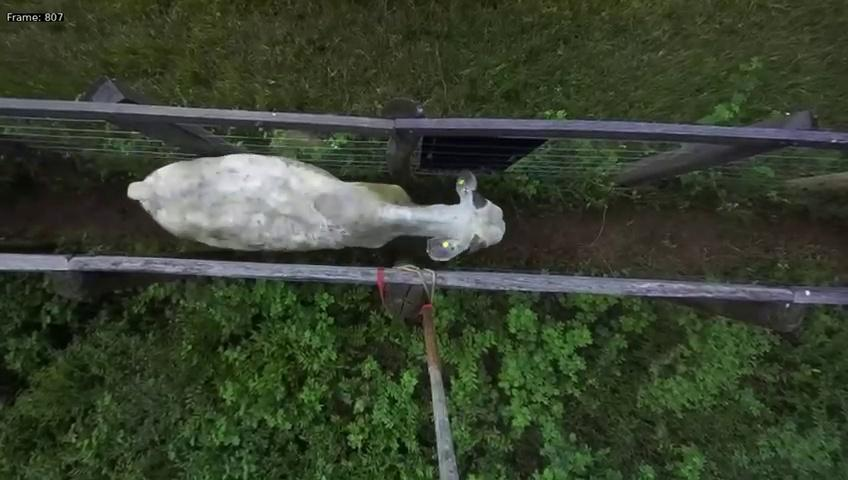cattle: (124, 131, 506, 260)
